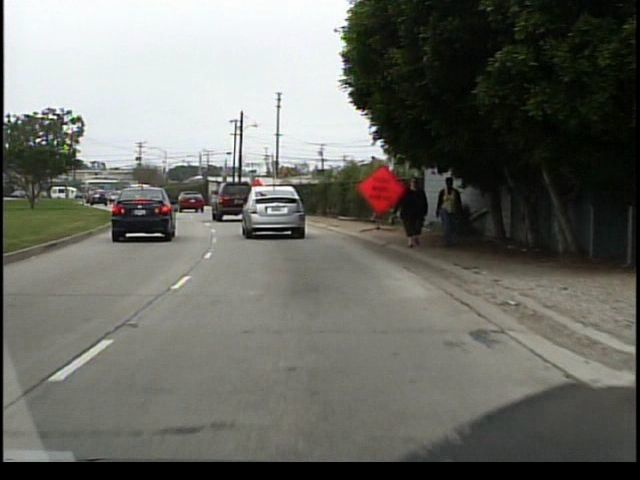person: (389, 172, 429, 254), (431, 176, 463, 250)
